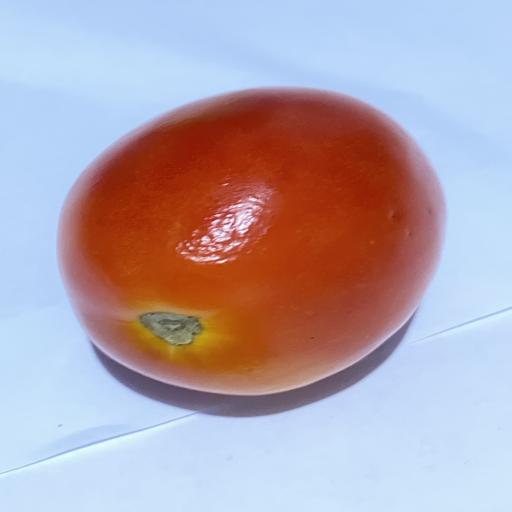ripe: (59, 87, 445, 395)
